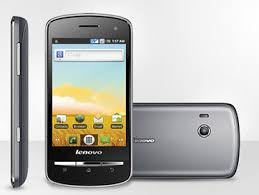lenovo: (43, 10, 135, 187)
